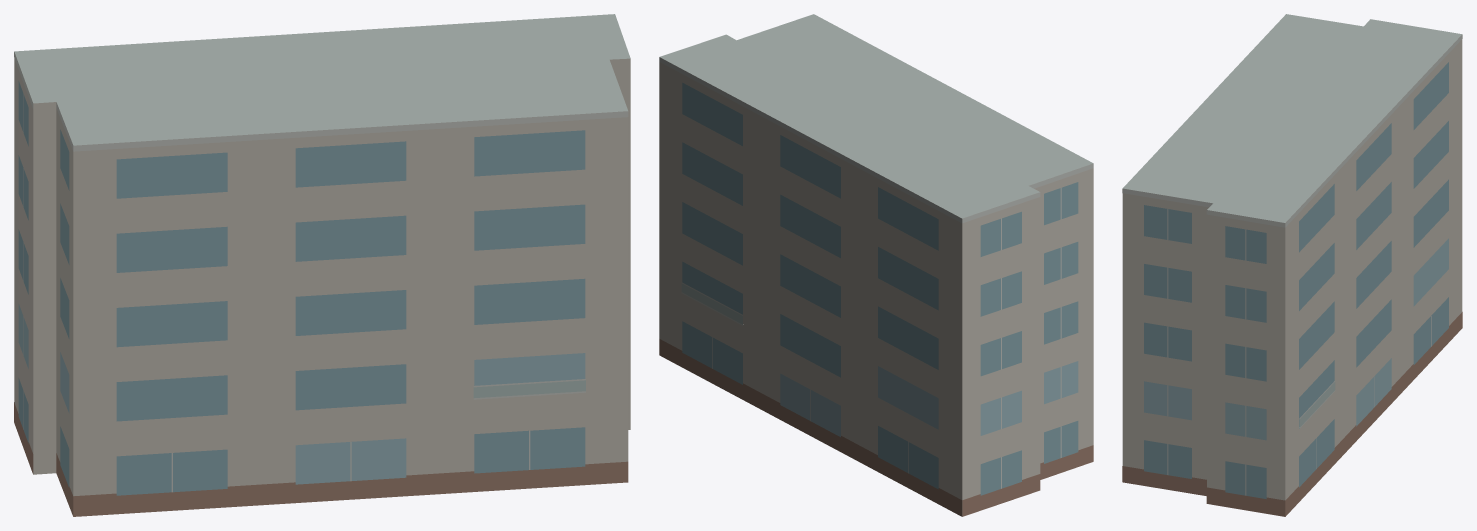
The model's file is survey-upis-32492384.glb.
The picture shows the model from 3 angles, left to right: view 1: azimuth 30°, elevation 25°; view 2: azimuth 150°, elevation 25°; view 3: azimuth 270°, elevation 25°; orthographic projection. The views are drawn at different scales.
Visible parts, largest first — view 1: survey-upis-32492384.tmp; view 2: survey-upis-32492384.tmp; view 3: survey-upis-32492384.tmp.
Part boxes in pixels (<box>): survey-upis-32492384.tmp: <box>14,14,630,516</box>; survey-upis-32492384.tmp: <box>659,14,1093,516</box>; survey-upis-32492384.tmp: <box>1122,14,1462,516</box>.
Bounding box in the file's own units: 23.27 × 15.25 × 16.
